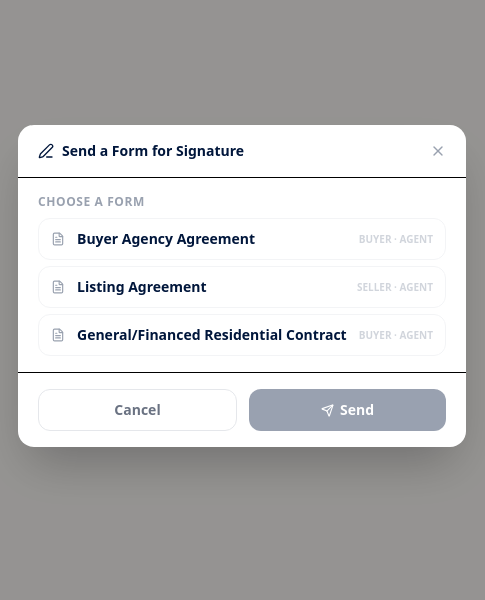
Test: SendTemplateModal › surfaces a send failure
Click the text "Buyer Agency Agreement".
click(166, 238)  # box top-left (77, 229), bottom-right (255, 248)
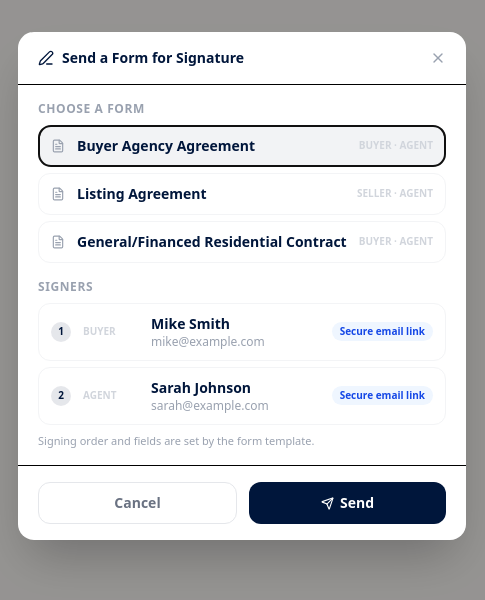
Click the button "Send".
click(348, 503)  # box top-left (249, 482), bottom-right (446, 524)
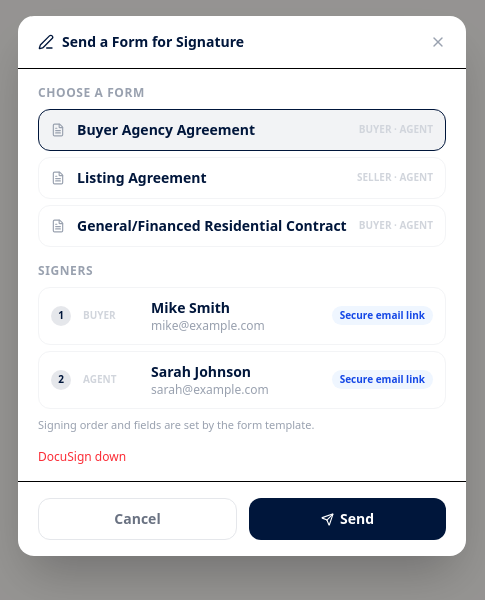
expect the text "DocuSign down" is shown: met, box top-left (38, 448), bottom-right (126, 465)
